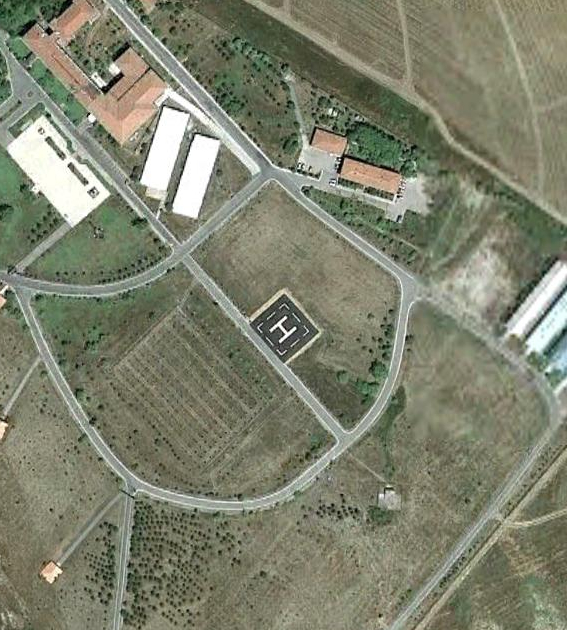heliport: (265, 313, 300, 345)
